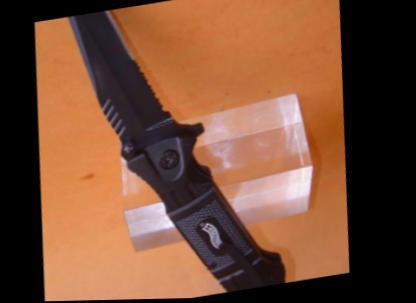knife: (40, 3, 175, 151)
